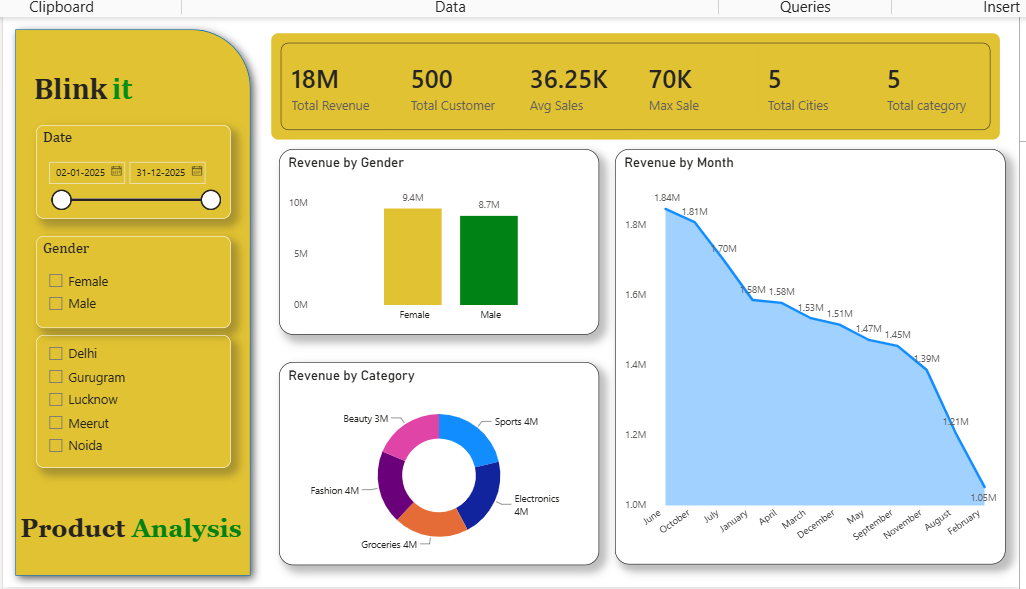

What the dashboard file says about the page in this screenshot:
{"tool":"powerbi","page":{"name":"Page 1","canvas":[1280,720],"ordinal":0},"visuals":[{"type":"shape","box":[0,0,327.4,719.5],"z":0},{"type":"cardVisual","fields":{"Data":["Sum(blinkit_clean_customer_behaviour.purchase_amount)","CountNonNull(blinkit_clean_customer_behaviour.customer_id)","Avg(blinkit_clean_customer_behaviour.purchase_amount)","Max(blinkit_clean_customer_behaviour.purchase_amount)","blinkit_clean_customer_behaviour.total_cities","blinkit_clean_customer_behaviour.total_category"]},"box":[331.9,15.6,931.1,144.8],"z":1000},{"type":"areaChart","title":"Revenue by Month","fields":{"Category":["blinkit_clean_customer_behaviour.purchase_month"],"Y":["Sum(blinkit_clean_customer_behaviour.purchase_amount)"]},"box":[770.7,167.1,492.3,523.4],"z":2000},{"type":"donutChart","title":"Revenue by Category","fields":{"Category":["blinkit_clean_customer_behaviour.category"],"Y":["Sum(blinkit_clean_customer_behaviour.purchase_amount)"]},"box":[347.5,434.3,403.2,256.2],"z":3000},{"type":"columnChart","title":"Revenue by Gender","fields":{"Y":["Sum(blinkit_clean_customer_behaviour.purchase_amount)"],"Category":["blinkit_clean_customer_behaviour.gender"]},"box":[347.5,167.1,403.2,233.9],"z":4000},{"type":"textbox","box":[33.4,62.4,131.4,57.9],"z":5000},{"type":"textbox","box":[131.4,62.4,84.6,57.9],"z":6000},{"type":"slicer","title":"Date","fields":{"Values":["blinkit_clean_customer_behaviour.purchase_date"]},"box":[42.3,135.9,245,118.1],"z":7000},{"type":"slicer","title":"Gender","fields":{"Values":["blinkit_clean_customer_behaviour.gender"]},"box":[42.3,276.2,245,115.8],"z":8000},{"type":"slicer","fields":{"Values":["blinkit_clean_customer_behaviour.city"]},"box":[42.3,400.9,245,167.1],"z":9000},{"type":"textbox","box":[17.5,620,302.5,72.5],"z":9001}]}

Visuals, with their boxes in screenshot pixels (x1, y1, x2, y2):
shape: rect(3, 16, 261, 585)
cardVisual - Sum(blinkit_clean_customer_behaviour.purchase_amount) x CountNonNull(blinkit_clean_customer_behaviour.customer_id): rect(265, 28, 1001, 143)
"Revenue by Month" areaChart: rect(612, 148, 1001, 562)
"Revenue by Category" donutChart: rect(277, 359, 596, 562)
"Revenue by Gender" columnChart: rect(277, 148, 596, 333)
textbox: rect(29, 65, 133, 111)
textbox: rect(107, 65, 173, 111)
"Date" slicer: rect(36, 123, 230, 217)
"Gender" slicer: rect(36, 234, 230, 326)
slicer - blinkit_clean_customer_behaviour.city: rect(36, 333, 230, 465)
textbox: rect(17, 506, 256, 563)
